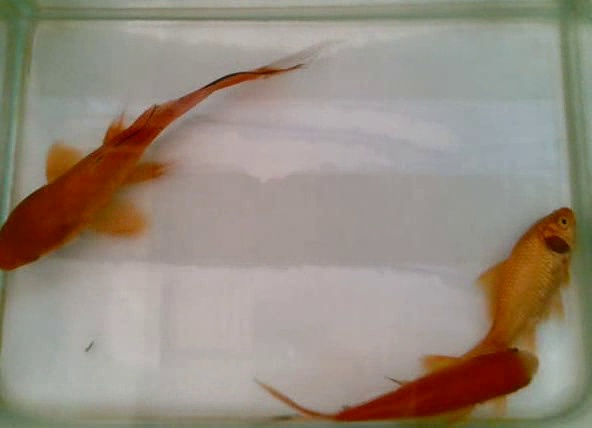alive_fish: (1, 37, 317, 272), (245, 343, 546, 428)
dead_fish: (417, 203, 586, 423)
